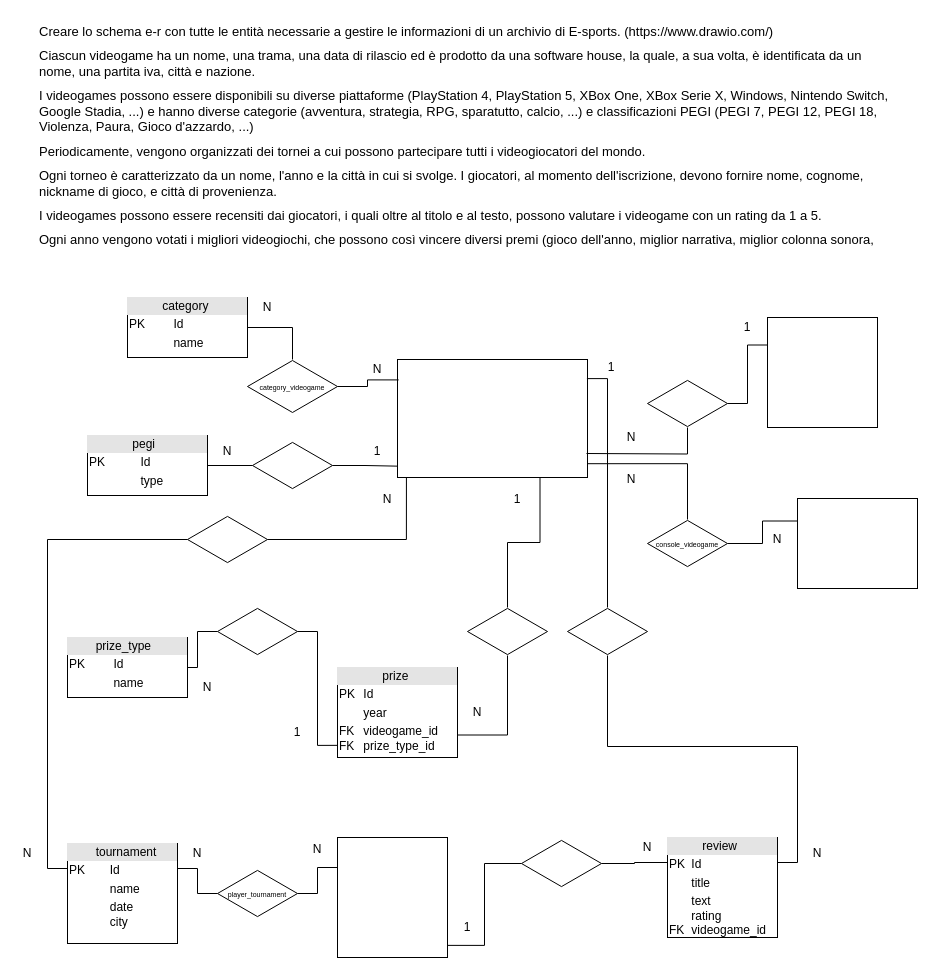
The diagram is 935 pixels wide and 975 high, and some of its shapes have lost their labels. Here are the shapes that lost their labels. From the top down, the box of each, then its label:
(766, 316, 878, 428): software_house PK Id name VAT city nation
(396, 358, 588, 478): videogame PK Id title FK FK plot release_date sofware_house_id pegi_id
(186, 514, 268, 564): tournament_videogame
(796, 498, 918, 588): console PK Id name company serial_number
(336, 836, 448, 958): player PK Id name surname age bio review_id
